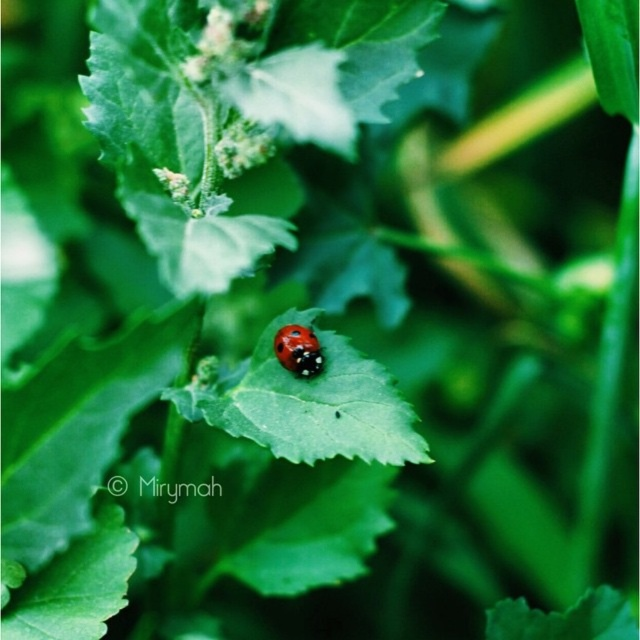Ladybug: (274, 322, 326, 379)
